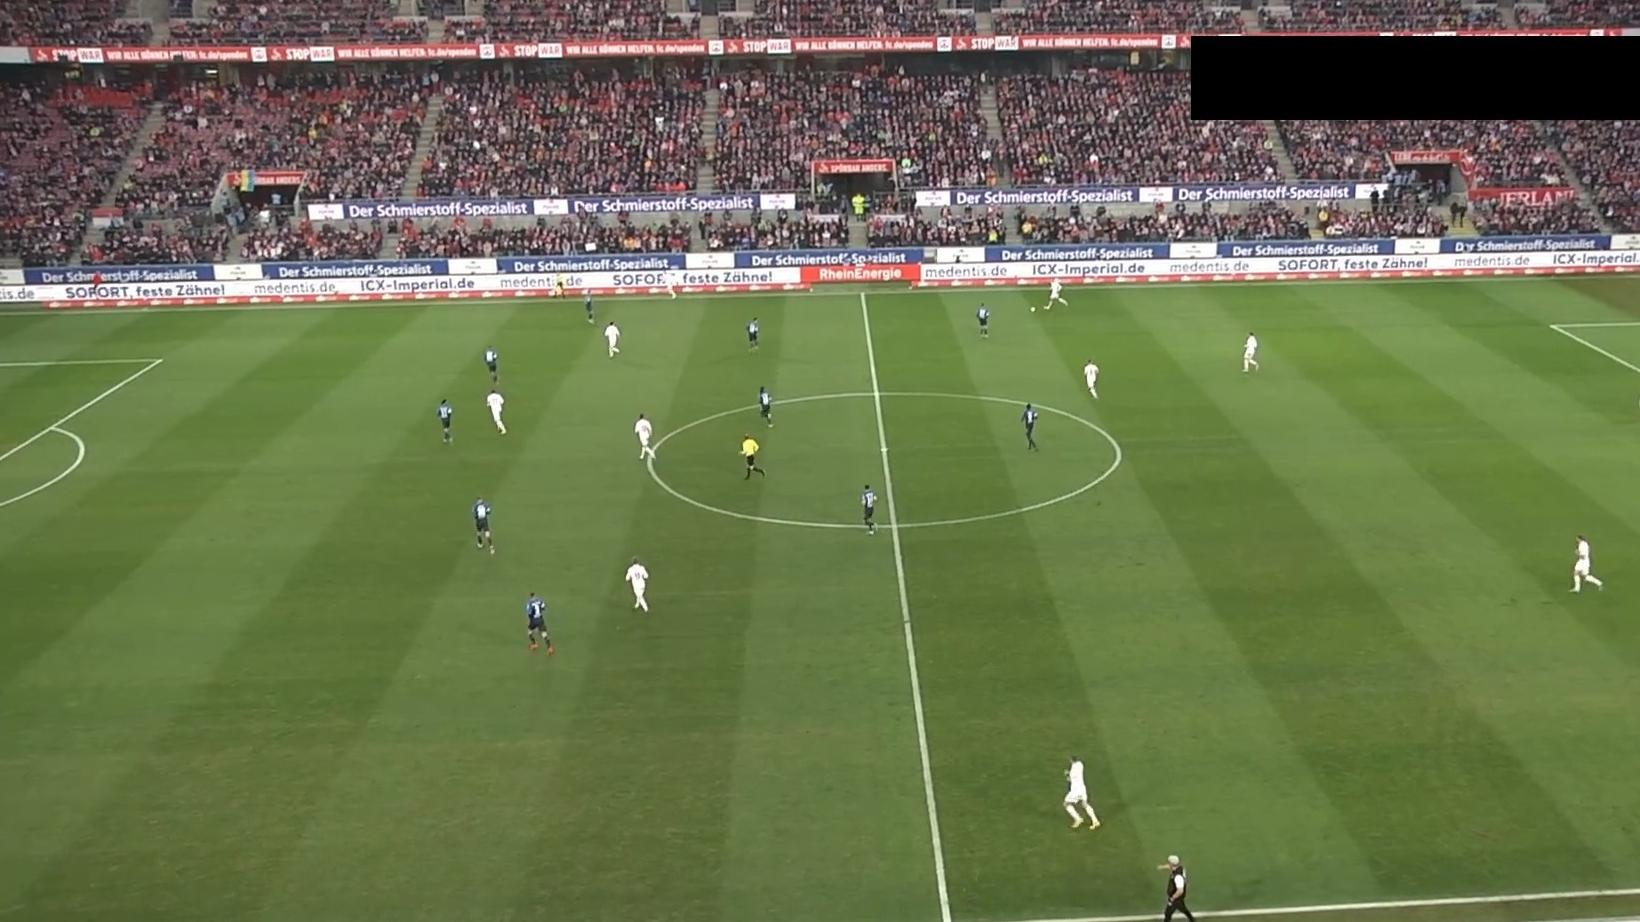ball: (1029, 305, 1037, 313)
